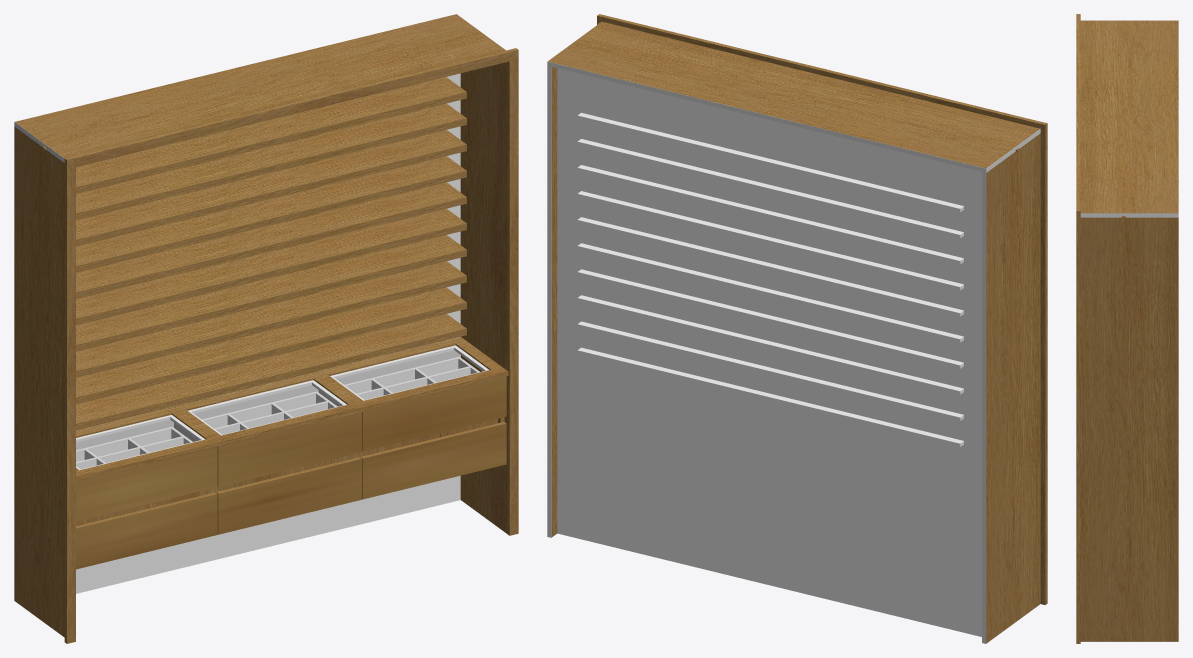
Rendered from devlyn_display_fixture.glb.
3 renders of one model, left to right at view 1: azimuth 30°, elevation 25°; view 2: azimuth 150°, elevation 25°; view 3: azimuth 270°, elevation 25°, orthographic. The views are drawn at different scales.
Size of the model in its own units: 2.04 by 2.09 by 0.4488.
Materials: 4 (2 with a texture image).
